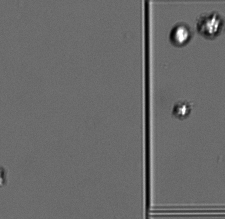Living Cell: (196, 8, 223, 40), (168, 22, 193, 49), (170, 99, 196, 122)
